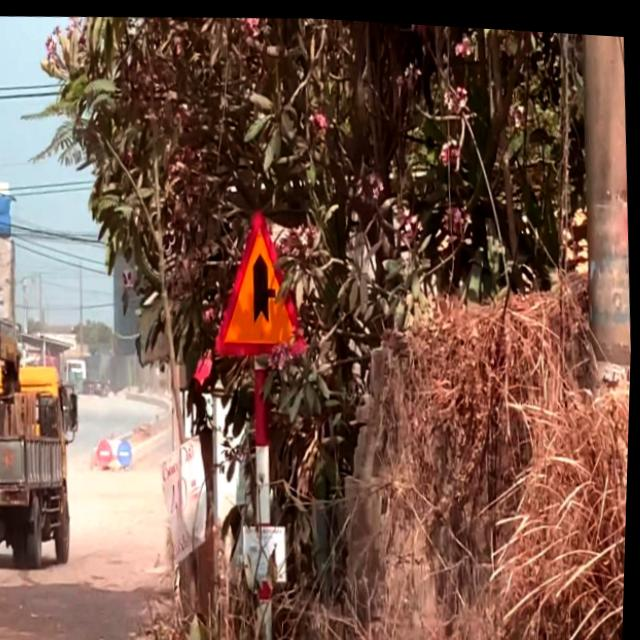Cam di nguoc chieu: (98, 437, 117, 468)
Giao nhau voi duong khong uu tien ben phai: (208, 198, 314, 362)
